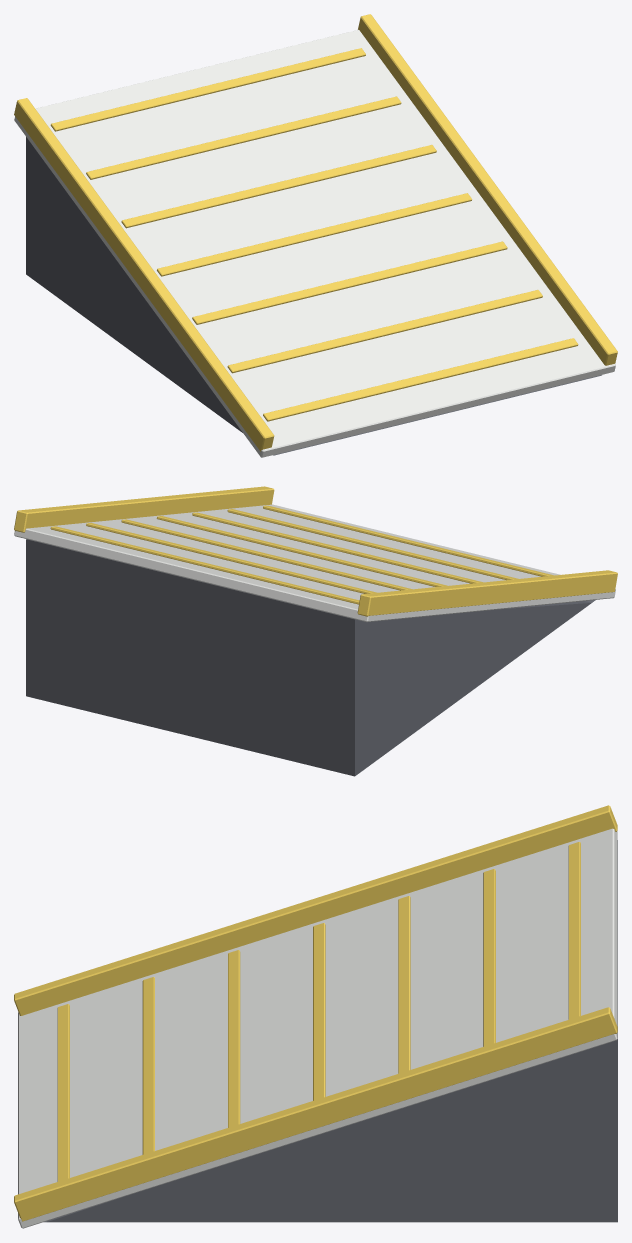
File: laser-tag-arena-and-activity-centre-arena-ramp-65dc7cae__34477.glb
The picture shows the model from 3 angles, top to bottom: view 1: azimuth 30°, elevation 25°; view 2: azimuth 150°, elevation 25°; view 3: azimuth 270°, elevation 25°; orthographic projection. The views are drawn at different scales.
Visible parts, largest first — view 1: arena-ramp; view 2: arena-ramp; view 3: arena-ramp.
Boxes of the visible parts, x1,y1,x2,y2 form: arena-ramp: (14, 14, 617, 457); arena-ramp: (14, 486, 617, 776); arena-ramp: (14, 805, 617, 1228).
Bounding box in the file's own units: 1.98 × 0.9628 × 2.43.
